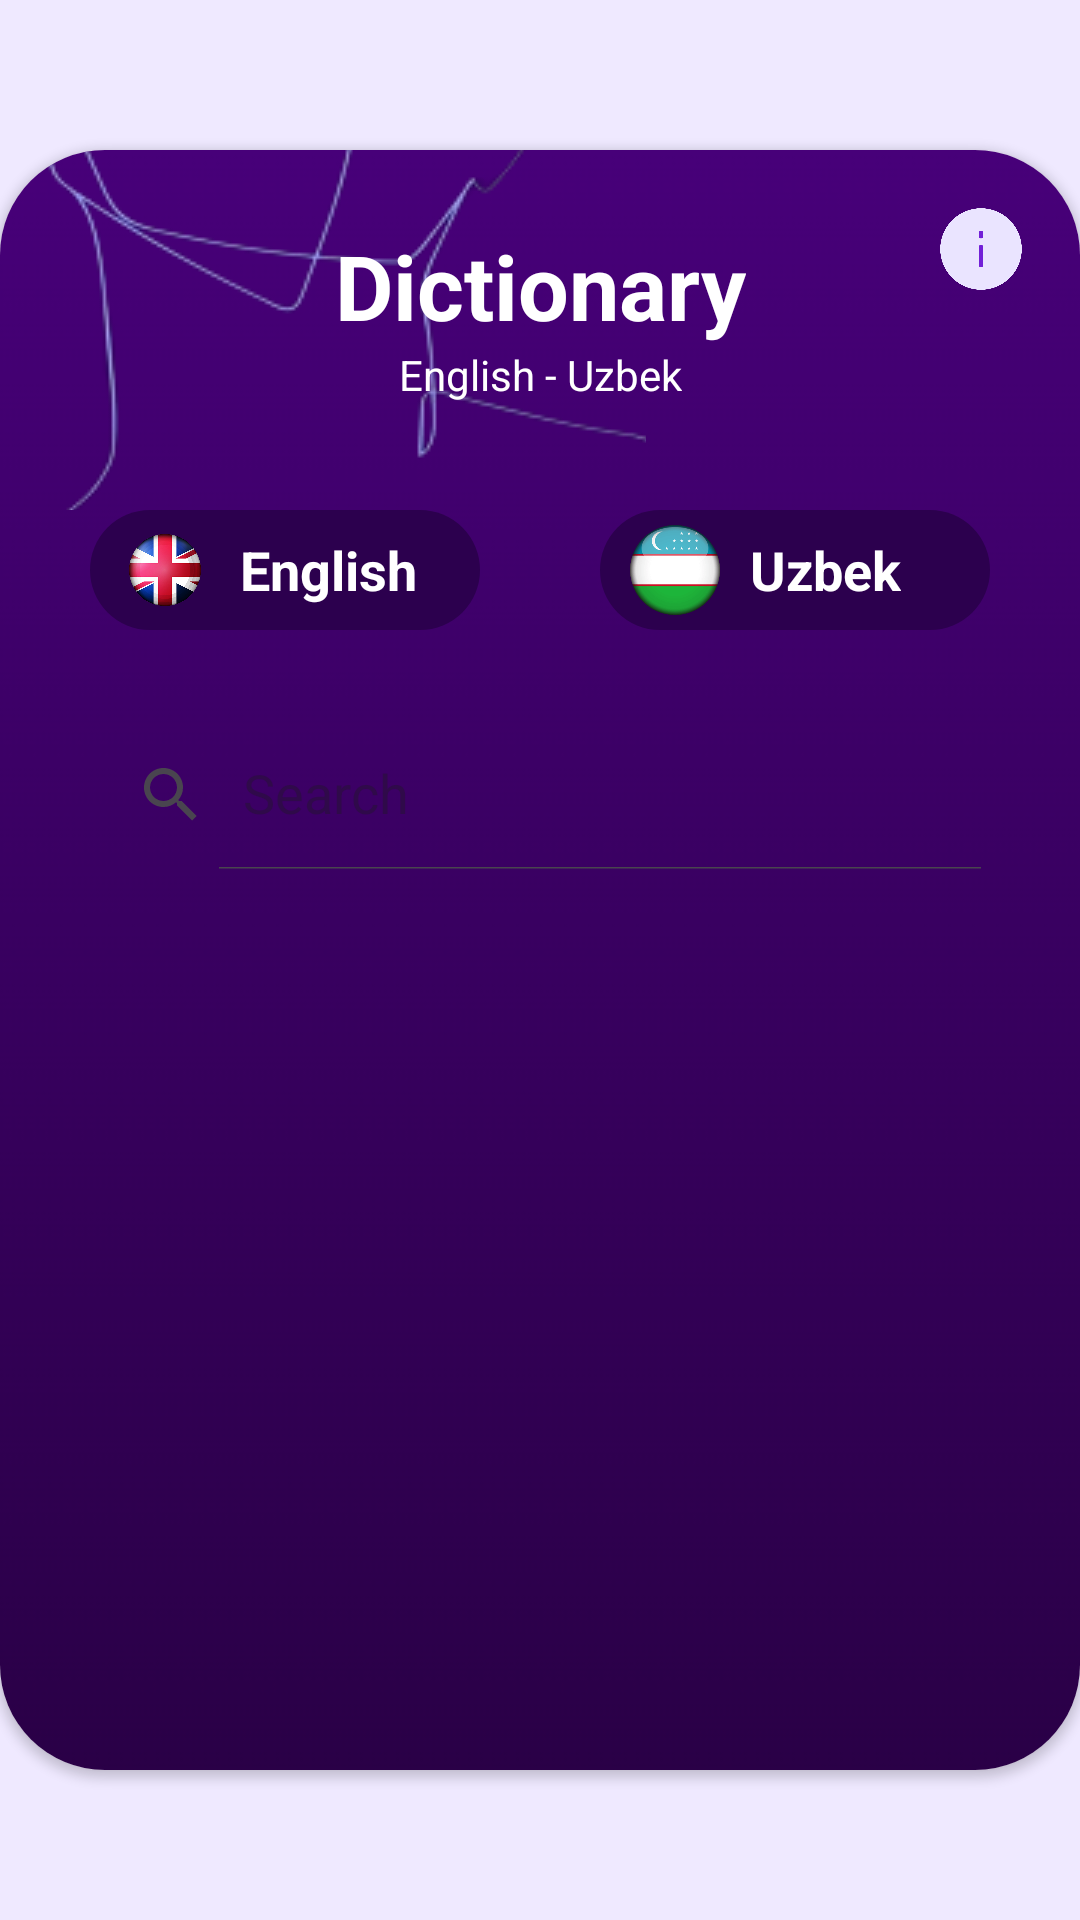

Icon click points for this 1080 x 1920 phone screenshot, format (x,y):
eng: (165,570)
infobtn: (981,249)
uzb: (675,570)
